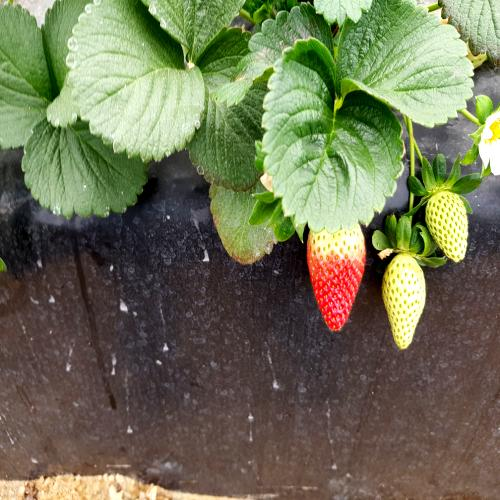partially-ripe: (298, 188, 369, 342)
